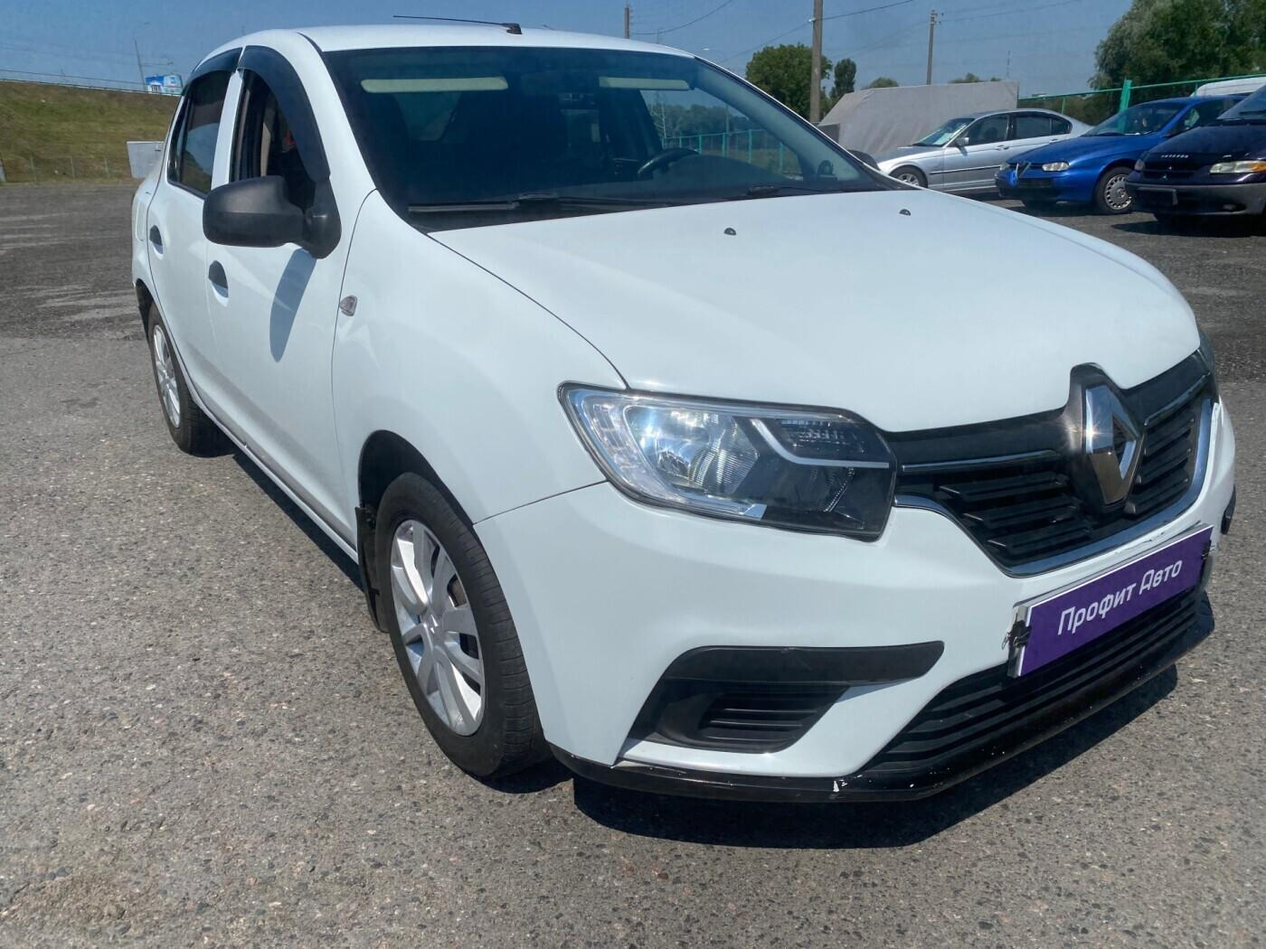Logan_2018: (127, 14, 1251, 813)
